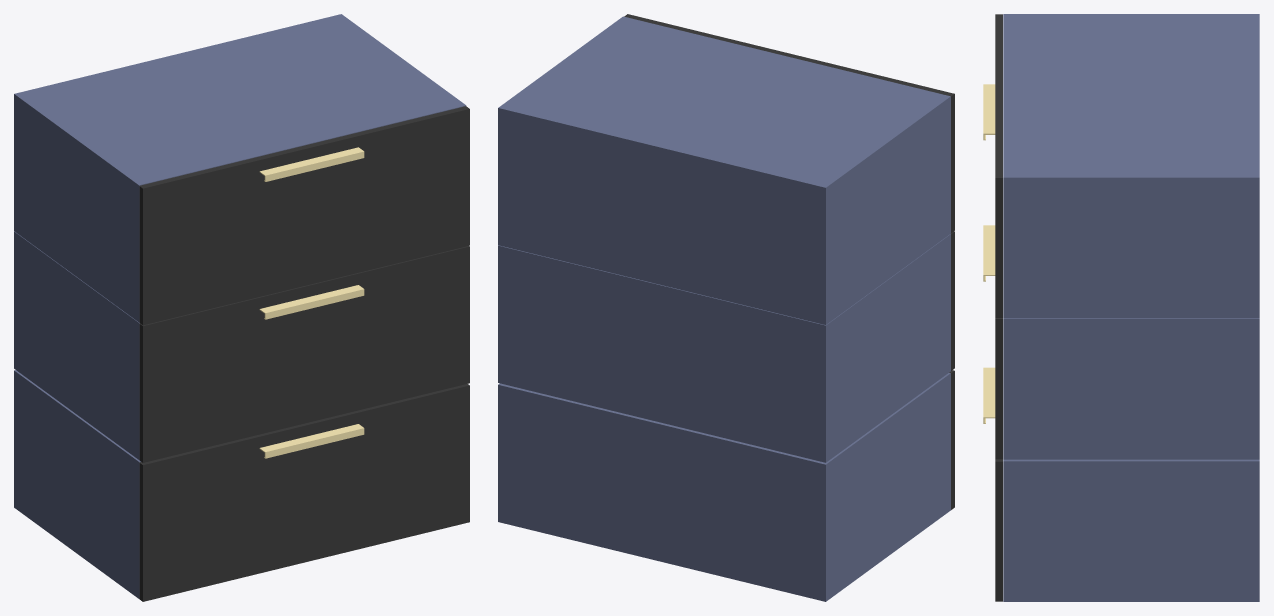
File: cabinet1.fbx
3 renders of one model, left to right at view 1: azimuth 30°, elevation 25°; view 2: azimuth 150°, elevation 25°; view 3: azimuth 270°, elevation 25°, orthographic. The views are drawn at different scales.
Visible parts, largest first — view 1: Cabinet1_010_65, Cabinet1_Door_010_64, Cabinet1_Door_005_67, Cabinet1_Door_006_61, Cabinet1_005_68, Cabinet1_006_62, Handle_010_63, Handle_006_60, Handle_005_66; view 2: Cabinet1_010_65, Cabinet1_005_68, Cabinet1_006_62, Cabinet1_Door_010_64; view 3: Cabinet1_010_65, Cabinet1_005_68, Cabinet1_006_62, Cabinet1_Door_010_64, Cabinet1_Door_005_67, Cabinet1_Door_006_61, Handle_005_66, Handle_010_63, Handle_006_60.
Part boxes in pixels (x1,y1,x2,y2): Cabinet1_010_65: (14, 14, 466, 321); Cabinet1_Door_010_64: (139, 106, 469, 325); Cabinet1_Door_005_67: (139, 384, 469, 601); Cabinet1_Door_006_61: (139, 246, 469, 462); Cabinet1_005_68: (14, 370, 140, 598); Cabinet1_006_62: (14, 231, 139, 459); Handle_010_63: (259, 147, 364, 181); Handle_006_60: (259, 285, 364, 319); Handle_005_66: (259, 424, 364, 458); Cabinet1_010_65: (498, 16, 950, 324); Cabinet1_005_68: (498, 373, 950, 601); Cabinet1_006_62: (498, 234, 950, 462); Cabinet1_Door_010_64: (624, 14, 954, 233); Cabinet1_010_65: (1003, 14, 1259, 318); Cabinet1_005_68: (1003, 459, 1259, 601); Cabinet1_006_62: (1003, 318, 1259, 459); Cabinet1_Door_010_64: (995, 14, 1002, 317); Cabinet1_Door_005_67: (995, 459, 1002, 601); Cabinet1_Door_006_61: (995, 318, 1002, 459); Handle_005_66: (983, 367, 995, 423); Handle_010_63: (983, 84, 995, 140); Handle_006_60: (983, 225, 995, 281).
Size of the model in its own units: 58.81 by 71.01 by 41.91.
